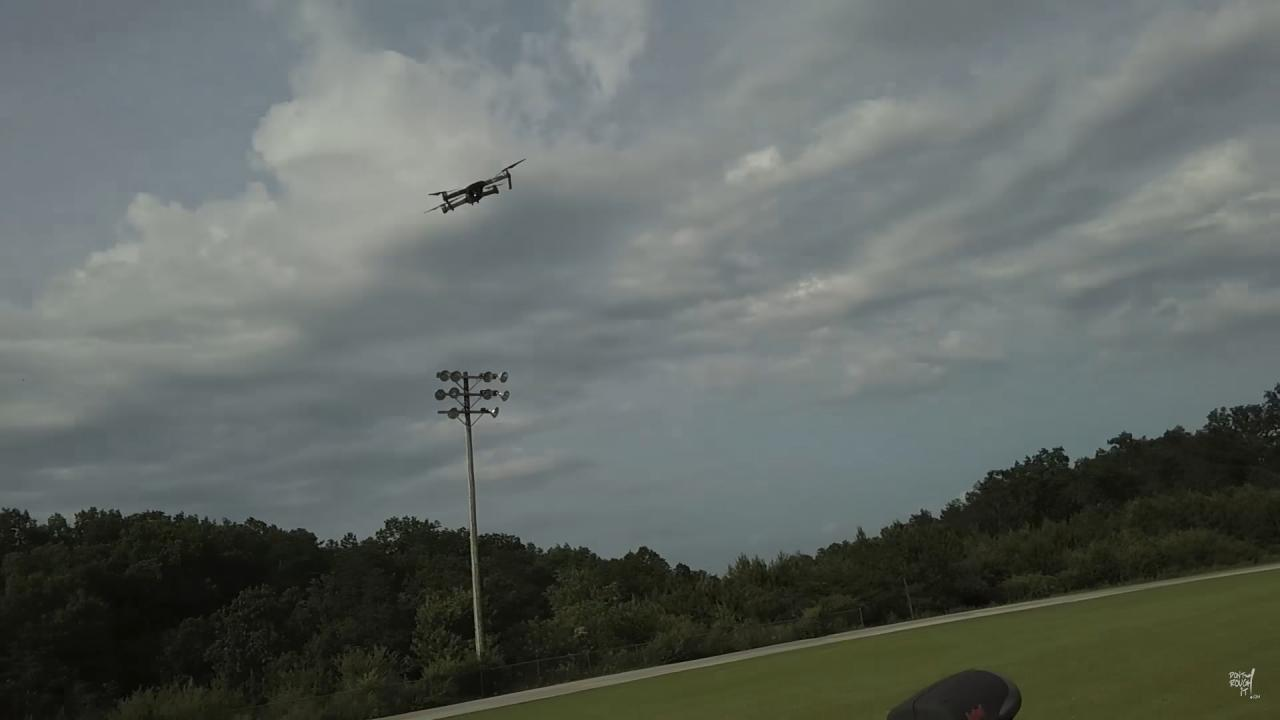Drone: (412, 150, 540, 230)
